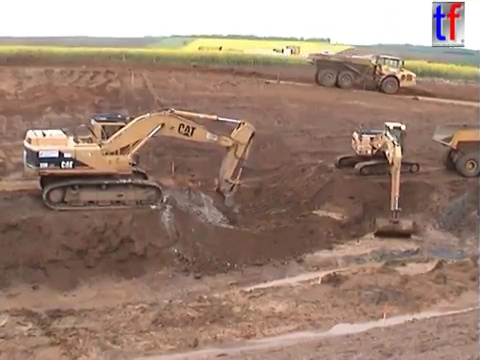excavator: (20, 105, 258, 226), (332, 119, 423, 239)
truck: (306, 49, 419, 96), (429, 120, 480, 180)
